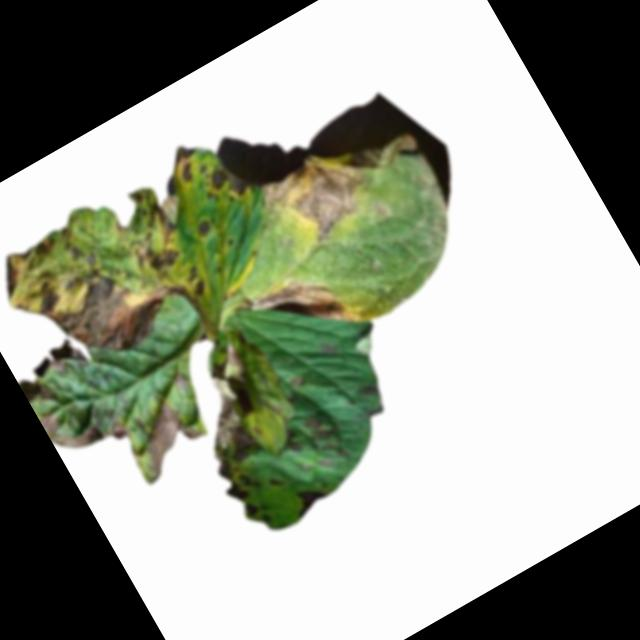Early_blight: (1, 192, 184, 396), (254, 107, 439, 261), (163, 343, 291, 484), (243, 261, 360, 369), (38, 382, 129, 471), (112, 181, 192, 279), (122, 392, 210, 479), (197, 159, 254, 213), (165, 137, 211, 187), (289, 479, 335, 520), (219, 469, 262, 509), (178, 265, 212, 303), (302, 414, 331, 446), (190, 216, 217, 242)
